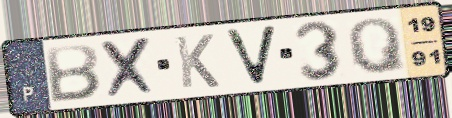3: (293, 19, 344, 83)
B: (44, 42, 103, 105)
K: (172, 32, 222, 90)
Q: (345, 16, 409, 76)
V: (221, 24, 281, 88)
X: (98, 34, 160, 101)
